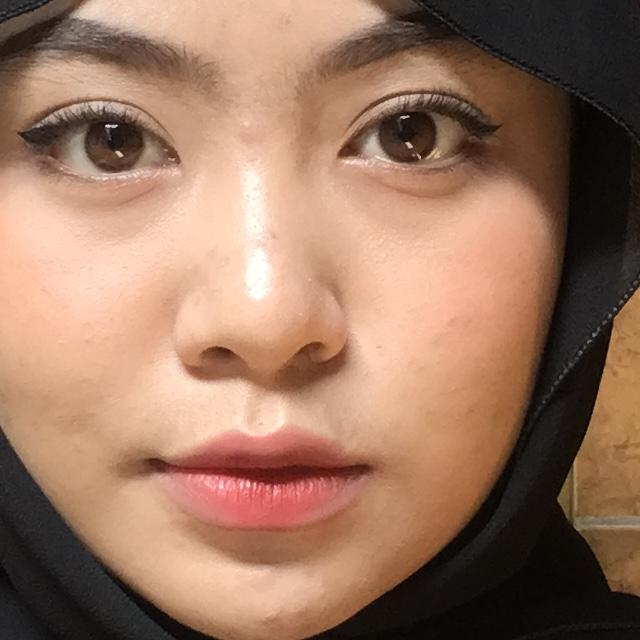ibu: (0, 136, 270, 640)
